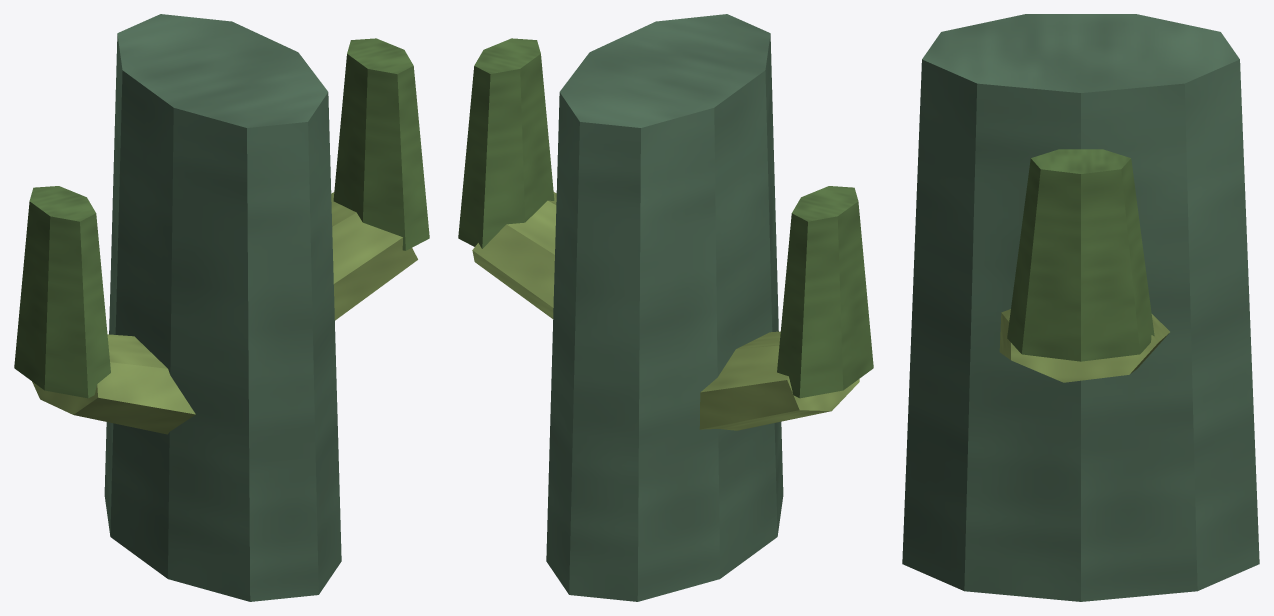
Rendered from cactus_set_01.fbx.
3 renders of one model, left to right at view 1: azimuth 30°, elevation 25°; view 2: azimuth 150°, elevation 25°; view 3: azimuth 270°, elevation 25°, orthographic. The views are drawn at different scales.
Visible parts, largest first — view 1: cactus_set_01; view 2: cactus_set_01; view 3: cactus_set_01.
Part boxes in pixels (box(x1,y1,x2,y2)): cactus_set_01: box(14, 14, 429, 601); cactus_set_01: box(458, 14, 873, 601); cactus_set_01: box(902, 14, 1259, 601).
Size of the model in its own units: 72.8 by 84 by 54.
Materials: 1 (1 with a texture image).
